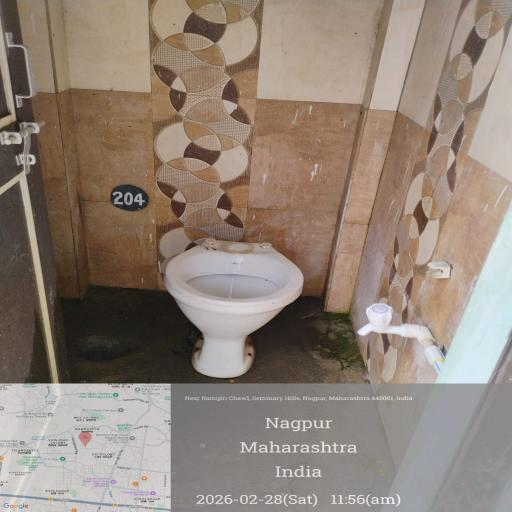clean_floor: (0, 2, 481, 182)
clean_western: (103, 196, 311, 382)
dirty_floor: (52, 305, 429, 512)
